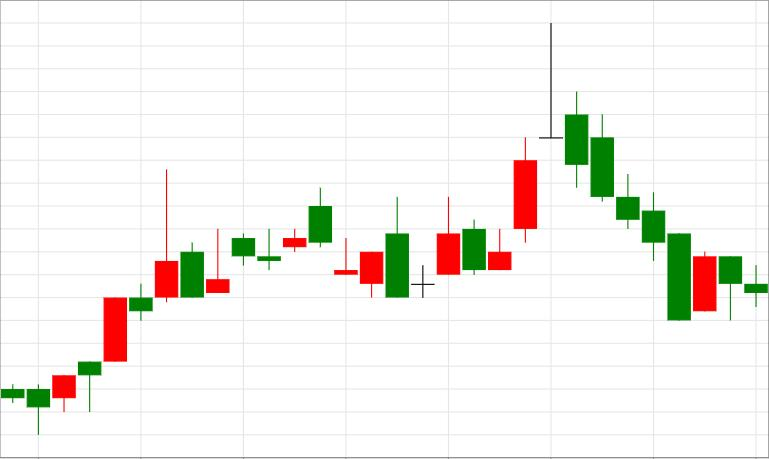shooting_star_fall: (27, 171, 178, 433)
